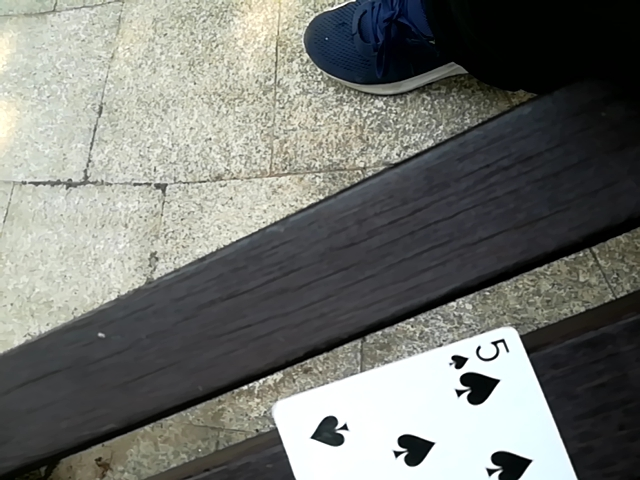ht 5: (256, 335, 593, 480)
